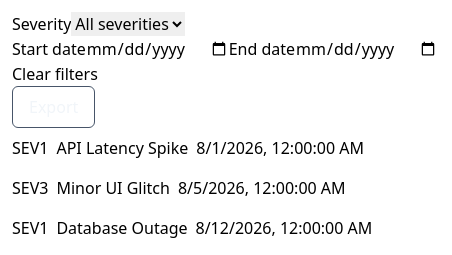
Test: TimelineContainer › AC: selecting a severity re-renders the timeline showing only matching incidents
The width and height of the screenshot is (452, 255).
Select "SEV1" in the dropdown with test id "severity-dropdown": (128, 24) 71,12 -> 185,36
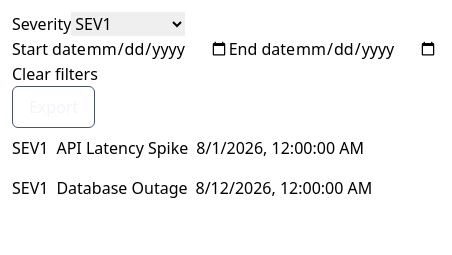
Expected: the list item with test id "incident-timeline-entry-1" is shown, 12,137 -> 364,159
Result: the list item with test id "incident-timeline-entry-2" is gone
